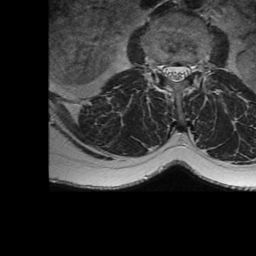CCS_stenosis: (172, 56, 181, 89)
LFS_normal: (191, 55, 199, 80)
LLS_normal: (181, 57, 190, 85)
RFS_normal: (154, 53, 162, 83)
RLS_normal: (162, 56, 172, 85)
